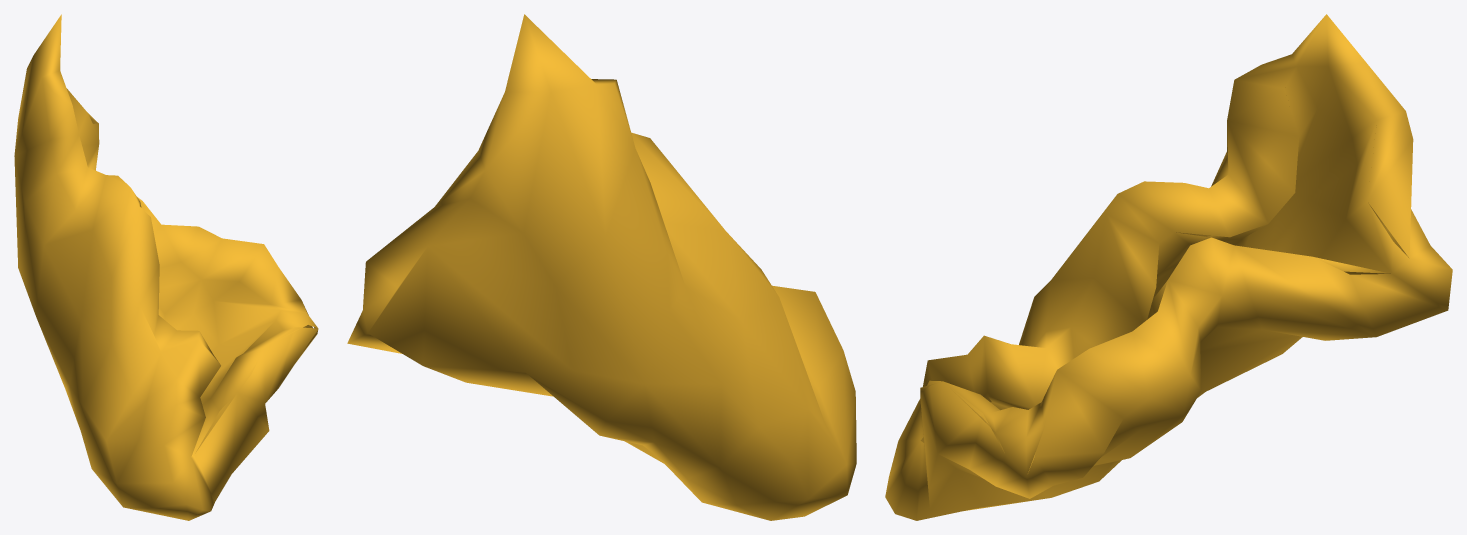
The model's file is nervoso-cingulate-sulcus-marginal-part-r.glb.
3 renders of one model, left to right at view 1: azimuth 30°, elevation 25°; view 2: azimuth 150°, elevation 25°; view 3: azimuth 270°, elevation 25°, orthographic. The views are drawn at different scales.
Visible parts, largest first — view 1: Cingulate sulcus (Marginal part*).r; view 2: Cingulate sulcus (Marginal part*).r; view 3: Cingulate sulcus (Marginal part*).r.
Boxes of the visible parts, <box> form: Cingulate sulcus (Marginal part*).r: <box>14,14,318,520</box>; Cingulate sulcus (Marginal part*).r: <box>347,14,856,520</box>; Cingulate sulcus (Marginal part*).r: <box>885,14,1452,520</box>.
Size of the model in its own units: 0.0194 by 0.0325 by 0.032.
